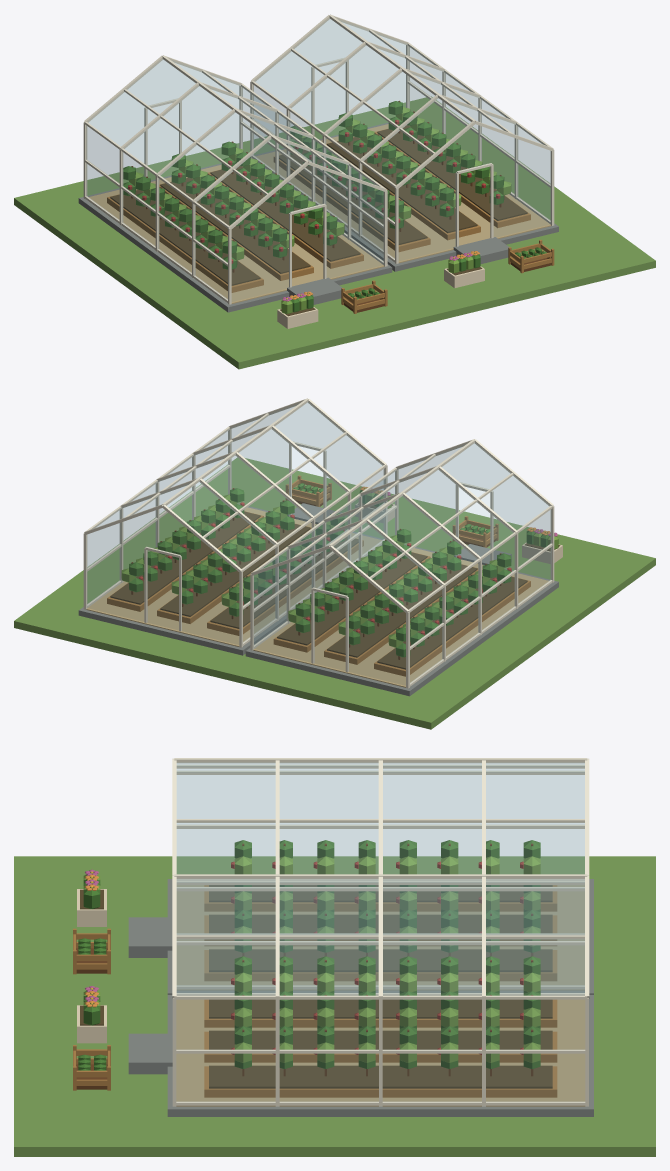
The model's file is 11_Greenhouse.obj.
3 renders of one model, top to bottom at view 1: azimuth 30°, elevation 25°; view 2: azimuth 150°, elevation 25°; view 3: azimuth 270°, elevation 25°, orthographic. The views are drawn at different scales.
Parts seen in each view (by area): view 1: 11_Greenhouse; view 2: 11_Greenhouse; view 3: 11_Greenhouse.
Boxes of the visible parts, box(x1,y1,x2,y2) form: 11_Greenhouse: box(14, 14, 655, 369); 11_Greenhouse: box(14, 398, 655, 729); 11_Greenhouse: box(14, 758, 655, 1156).
Bounding box in the file's own units: 15 × 4.68 × 14.
2 materials, 2 textured.
